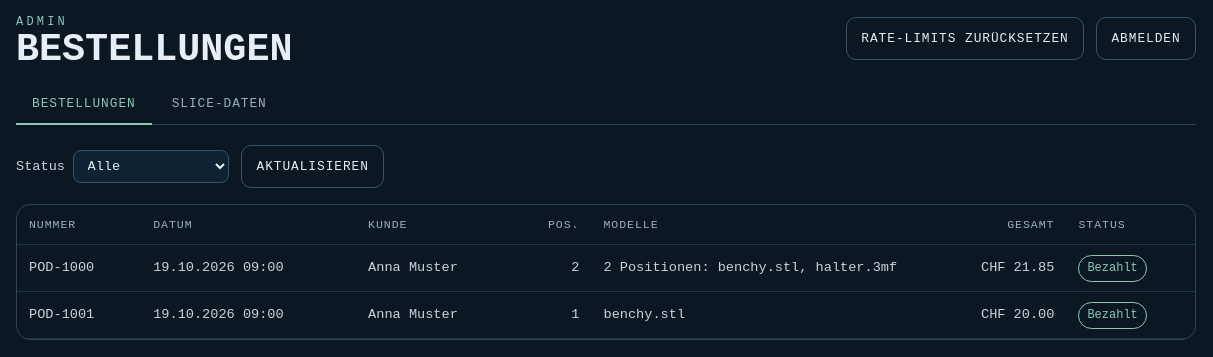
AdminPageComponent › slice data tab › shows the error of a failed load and keeps the login on a 401
What coordinates should you click on to do the following:
click the button "Slice-Daten"
I would click on:
 (219, 105)
Its box is [156,84,283,125].
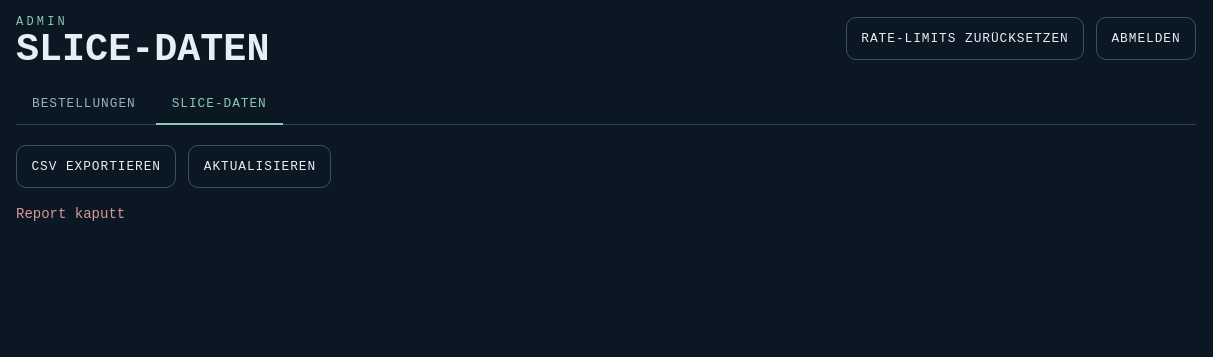
Result: the message with class "error" reads "Report kaputt" at [16,206,125,222]
